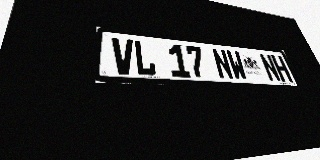1: (167, 43, 191, 78)
7: (184, 45, 208, 78)
H: (270, 55, 293, 82)
L: (133, 40, 157, 76)
N: (211, 48, 234, 80), (259, 54, 282, 82)
V: (112, 37, 135, 75)
W: (225, 50, 249, 80)
